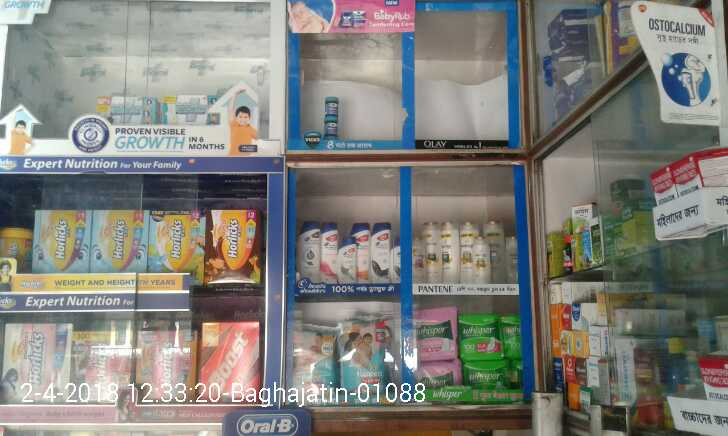vicks: (323, 97, 338, 116), (323, 116, 336, 134)
